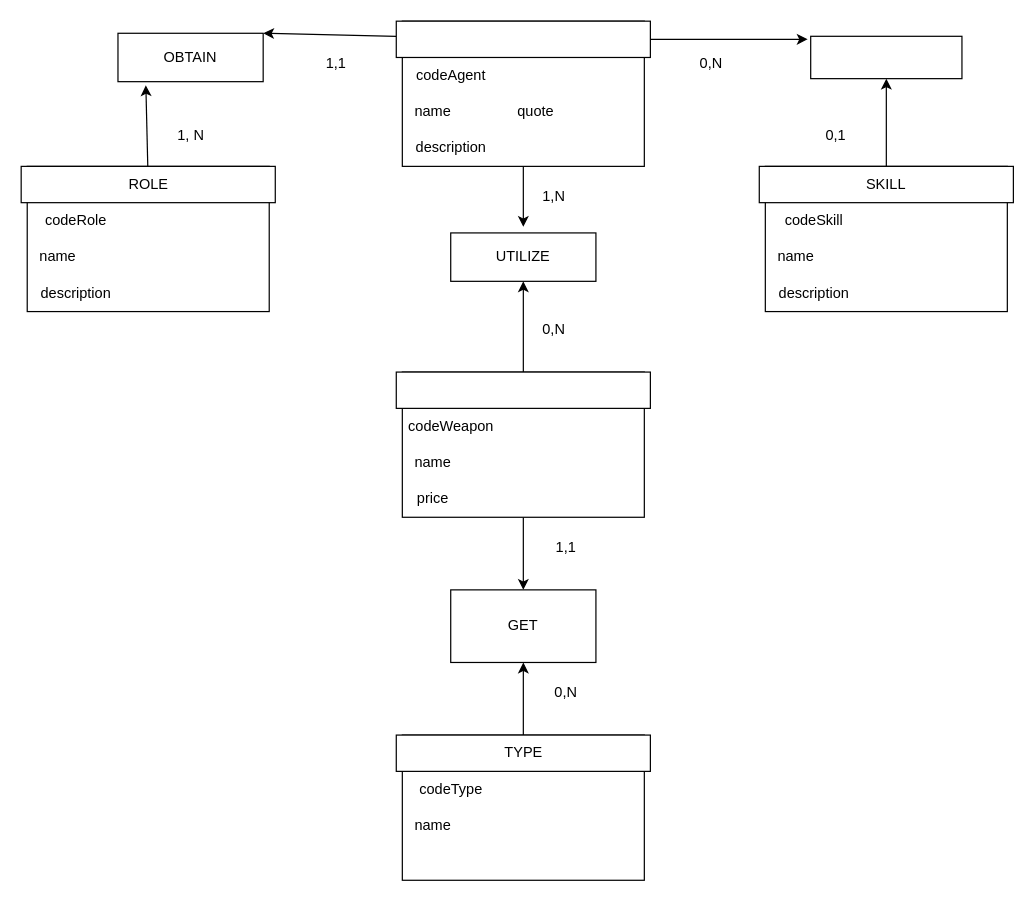
This 1035x901 diagram has some shape labels left out. The shapes that lost their labels are listed below. From the top down, each one's centre as x and y in pixels, then its label:
the point at 522,38: AGENT
the point at 885,57: USE
the point at 522,389: WEAPON
